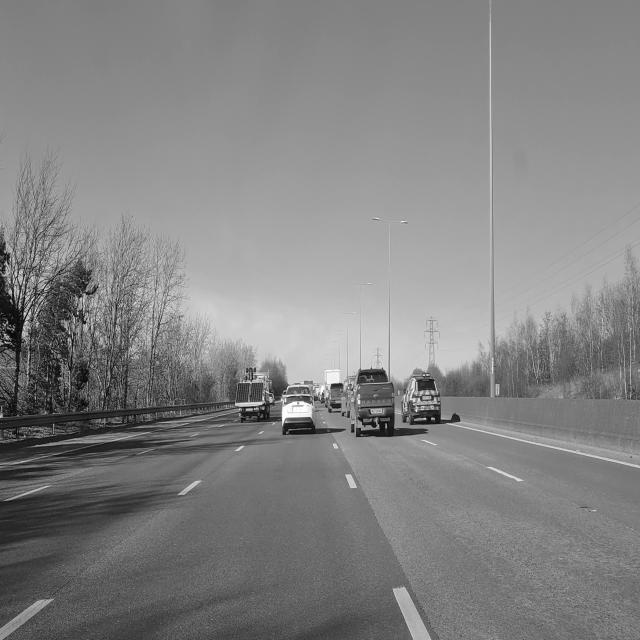car: (351, 365, 397, 440), (401, 373, 441, 424), (282, 386, 315, 434), (341, 376, 354, 417), (269, 392, 275, 405)
